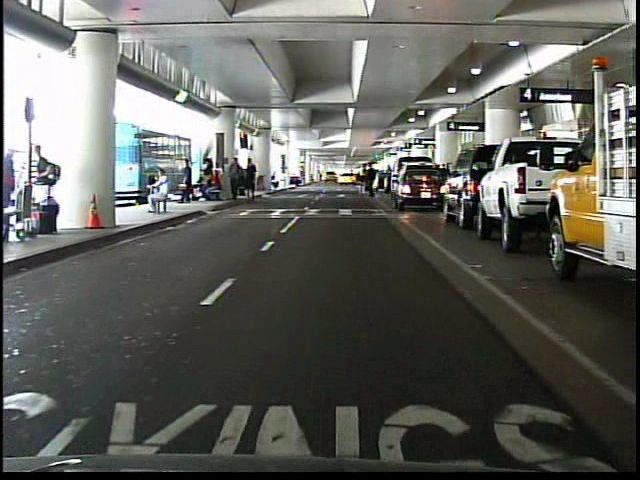person: (141, 167, 173, 217), (178, 156, 196, 207), (363, 158, 382, 203), (352, 160, 369, 197)
